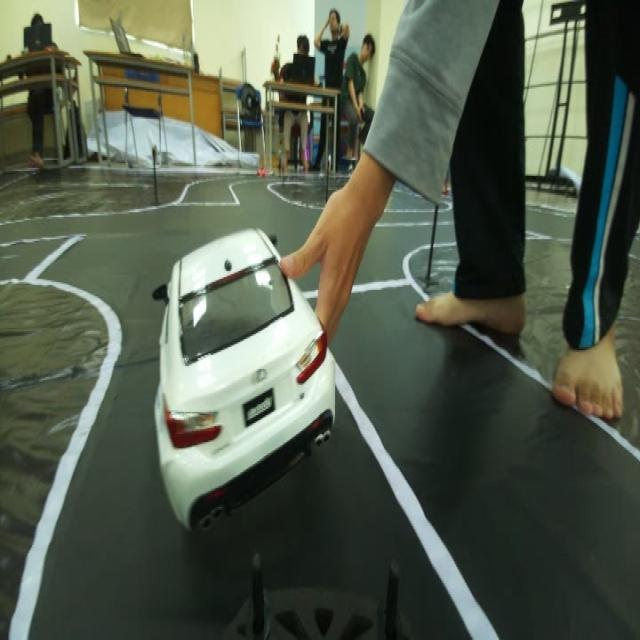car: (152, 250, 326, 496)
